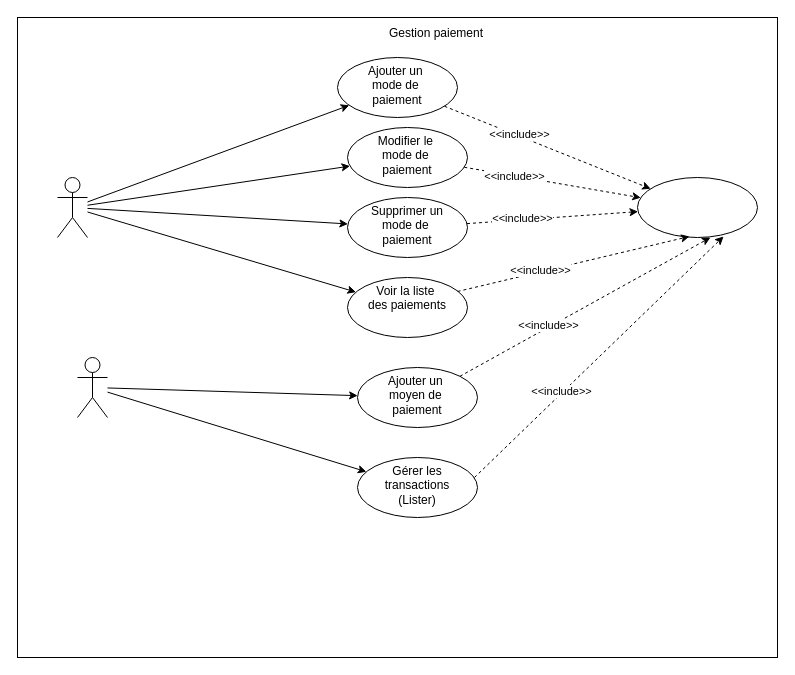
Some shapes in this 795 by 675 pixel diagram are drawn without their labels. The shapes that lost their labels are listed below. From the top down, each one's centre as x and y in pixels, then its label:
At (x=72, y=207): "Client_vendeur".
At (x=697, y=207): "S'authentifier".
At (x=92, y=387): "Administrateur".
